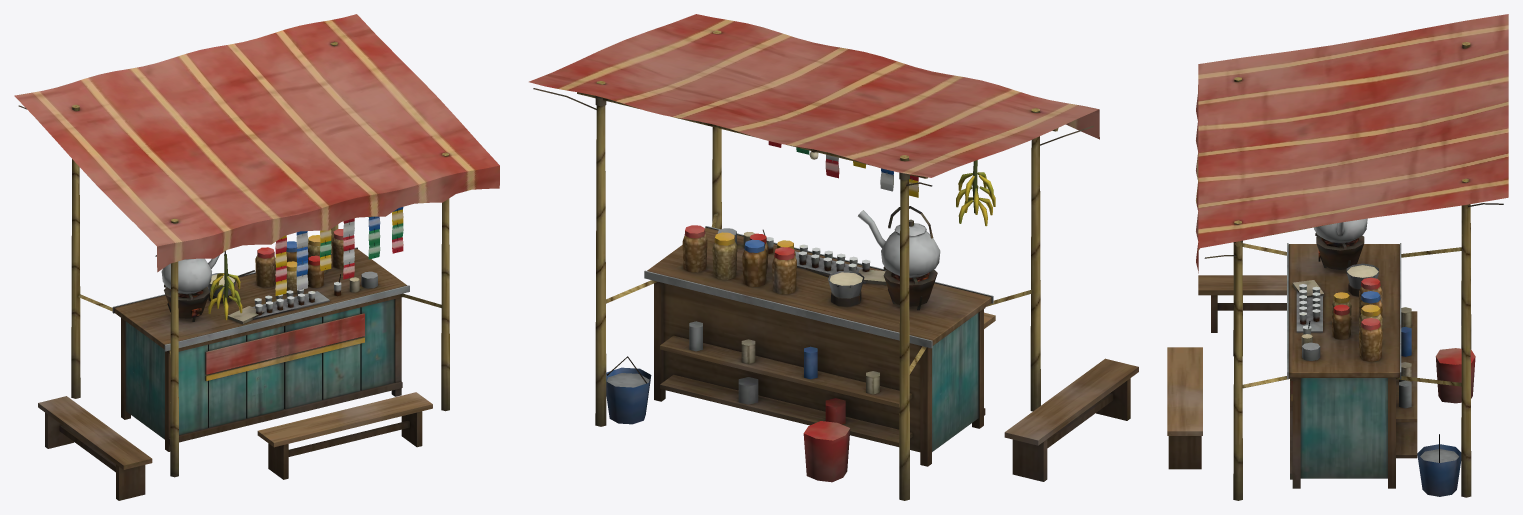
File: tea_stall.glb
3 views of the same model, side by side, from view 1: azimuth 30°, elevation 25°; view 2: azimuth 150°, elevation 25°; view 3: azimuth 270°, elevation 25° (orthographic). The views are drawn at different scales.
Visible parts, largest first — view 1: body; view 2: body; view 3: body.
Boxes of the visible parts, x1,y1,x2,y2 form: body: (14,14,499,500); body: (529,14,1138,500); body: (1167,14,1508,500).
Size of the model in its own units: 3.55 by 2.68 by 2.58.
1 material, 1 textured.
